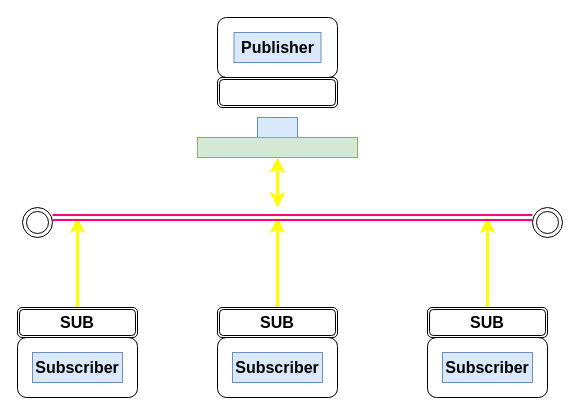
The diagram is 580 pixels wide and 415 high, and some of its shapes have lost their labels. Each missing label, with the centre of its shape:
"bind" belongs at (277,127).
"PUB" belongs at (277,92).
"tcp://localhost:5556" belongs at (277,147).
